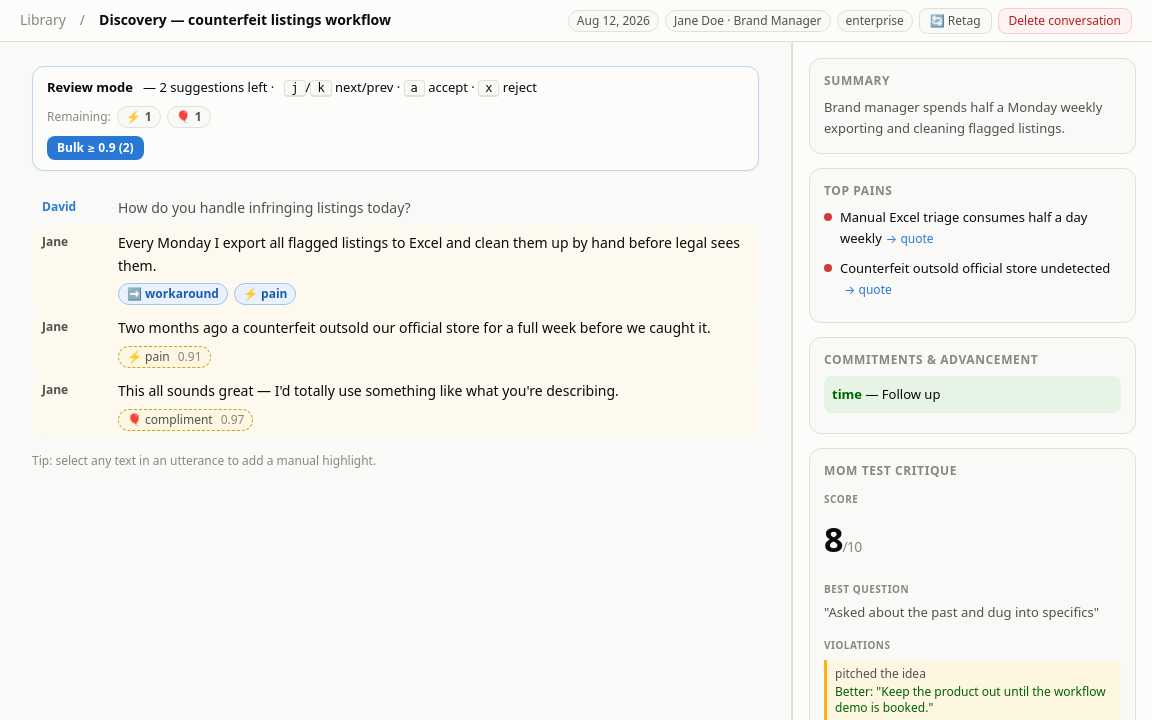
Conversation page › failed deletion shows an error and keeps the confirmation open
Expected: the text "Discovery — counterfeit listings workflow" is shown, x1=99 y1=9 x2=391 y2=32
Click the button "Delete conversation". click: (1065, 20)
box: x1=998 y1=8 x2=1132 y2=34
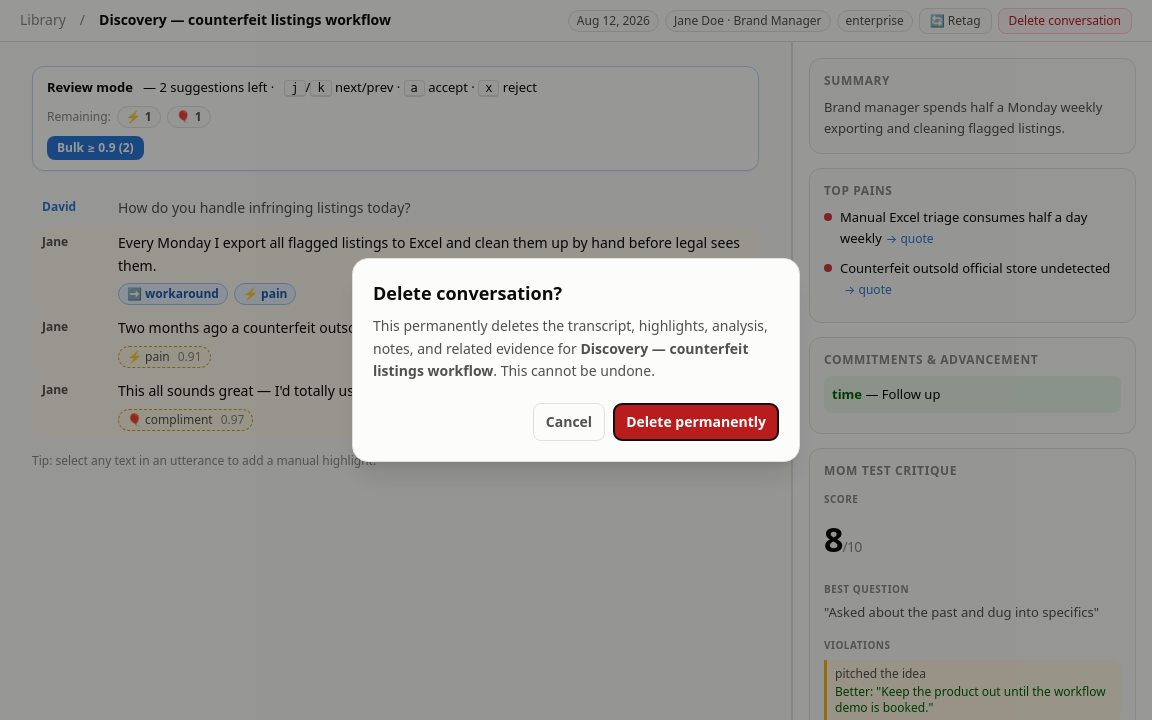
Click the button "Delete permanently". click: (696, 422)
box: x1=613 y1=403 x2=779 y2=441
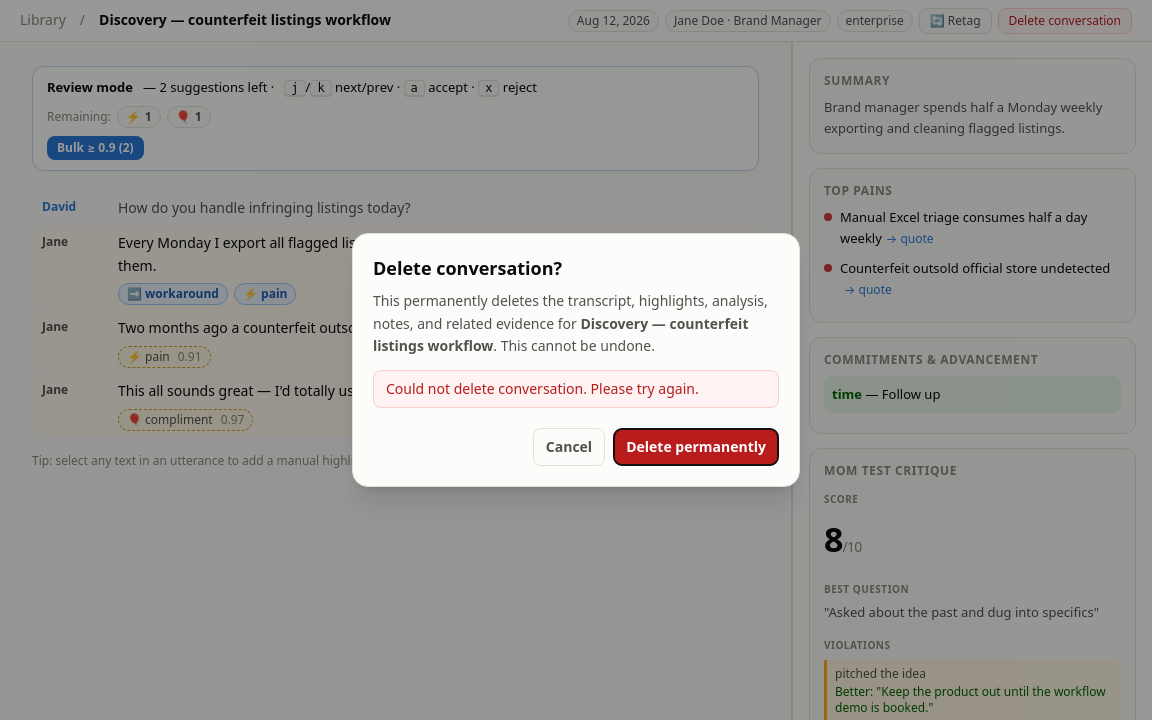
Now the dialog "Delete conversation?" is shown, box x1=352 y1=233 x2=800 y2=487
Now the message reads "Could not delete conversation. Please try again.", box x1=386 y1=379 x2=699 y2=398
